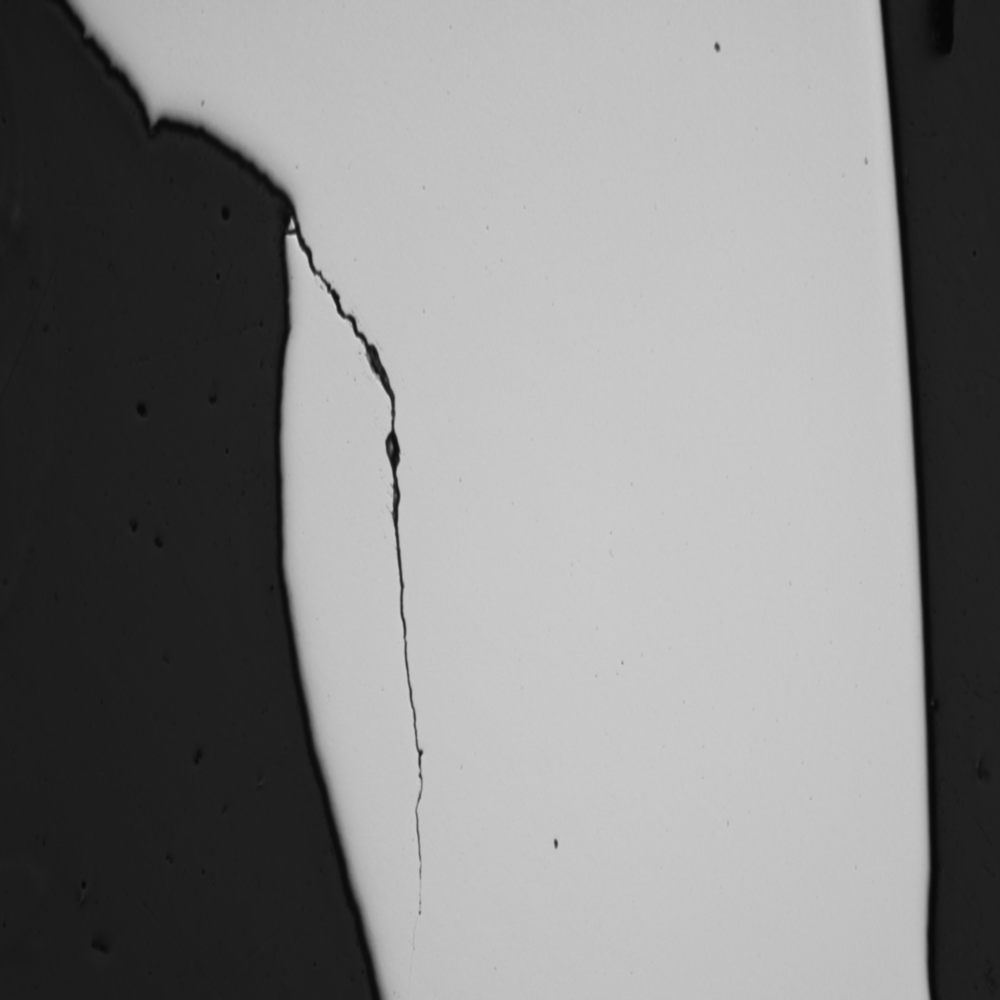crack: (251, 199, 479, 919)
